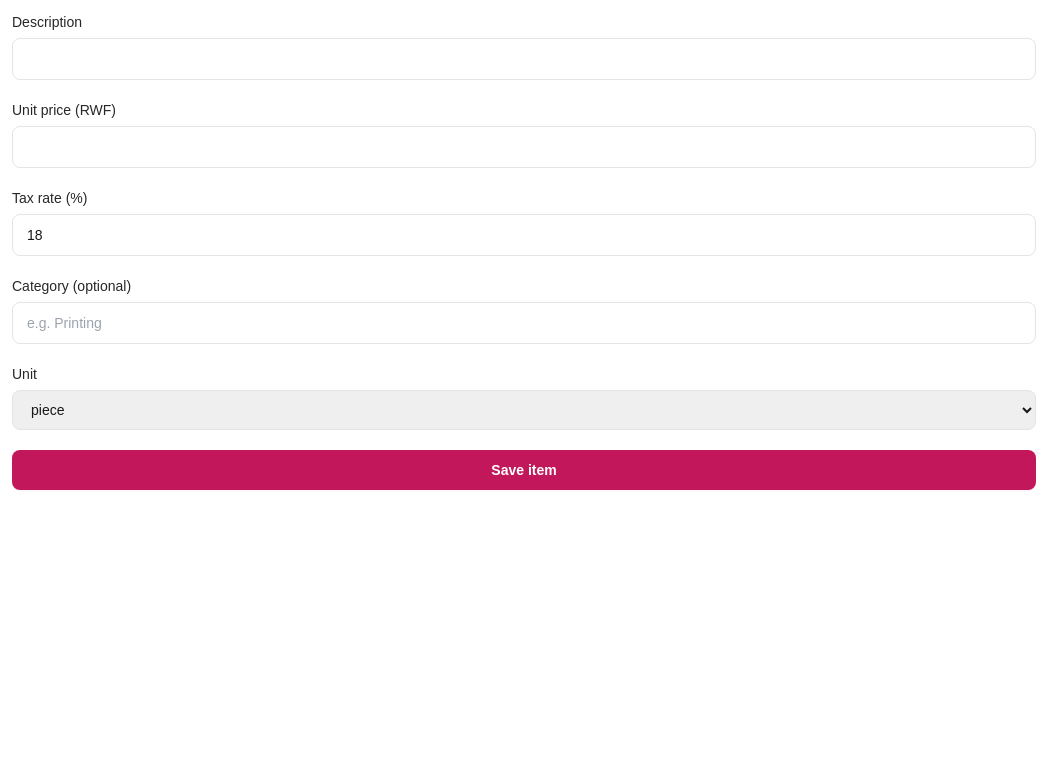
Test case: ItemForm › requires a description
This screenshot has width=1048, height=780.
What coordinates should you click on to do the following:
click the button "Save item"
I would click on:
 (524, 470)
Its box is [12,450,1036,490].
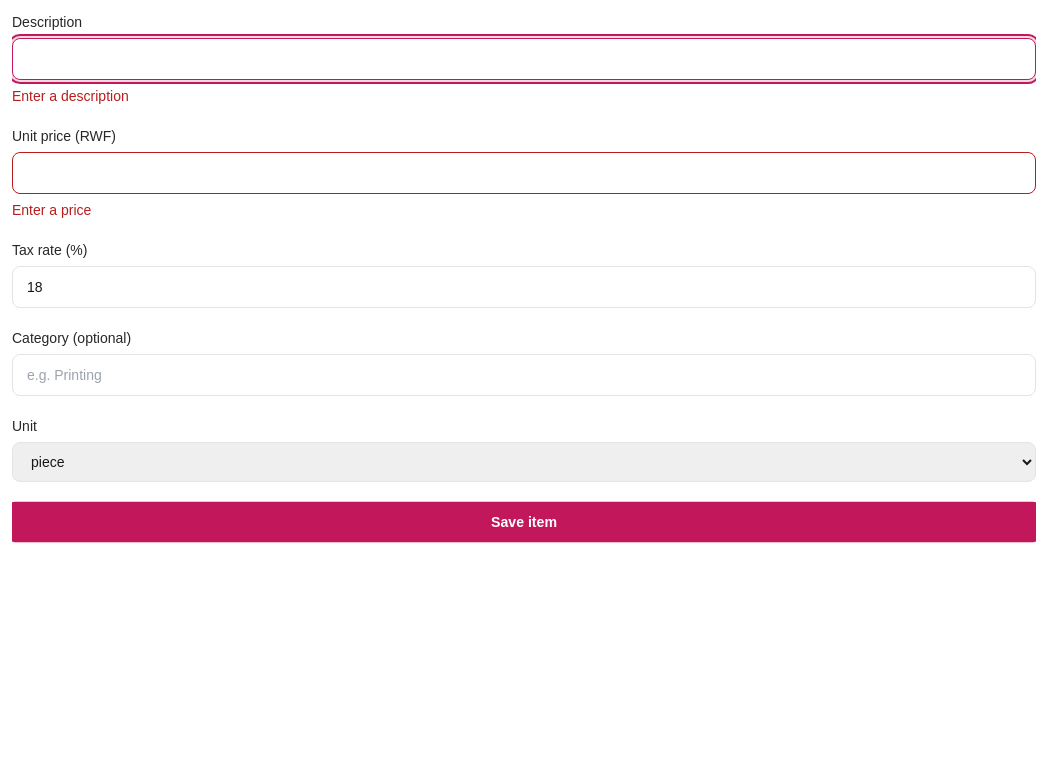
Expected: the text "Enter a description" is shown, [12,88,129,104]
